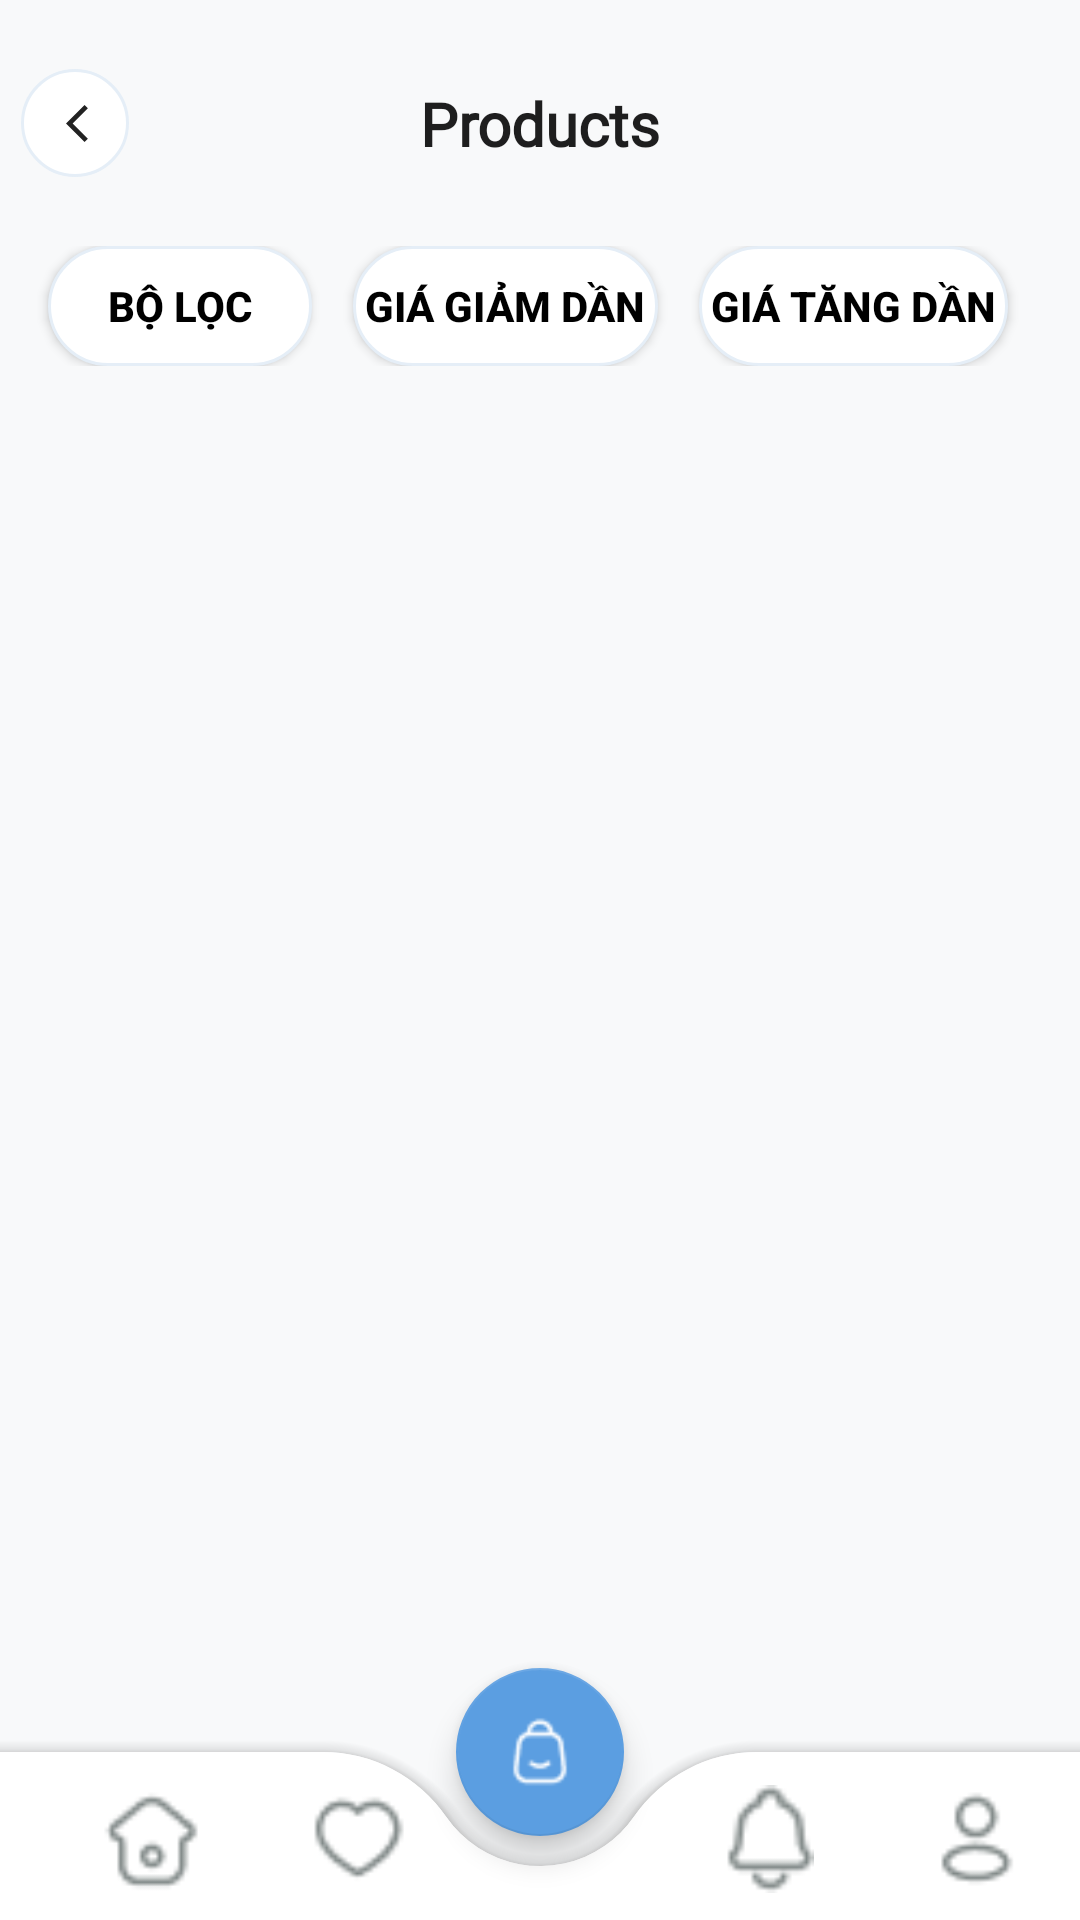

Point at icon controls on the screen. Image size 1080px×1920px, points as point (x, y).
arrow back: point (77, 123)
bag: point (540, 1752)
bell: point (771, 1837)
heart: point (359, 1837)
home: point (152, 1841)
user: point (976, 1838)
